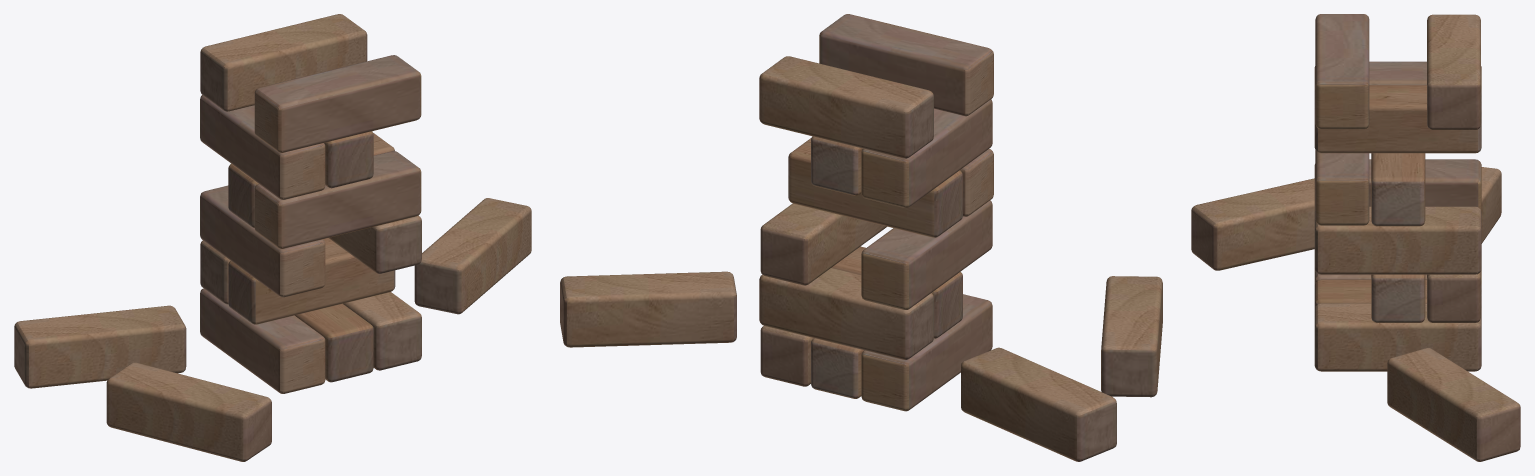
The picture shows the model from 3 angles, left to right: view 1: azimuth 30°, elevation 25°; view 2: azimuth 150°, elevation 25°; view 3: azimuth 270°, elevation 25°; orthographic projection. The views are drawn at different scales.
Visible parts, largest first — view 1: pCube23, pCube25, pCube21, pCube24, pCube17, pCube26, pCube7, pCube14, pCube20, pCube10, pCube8, pCube9 (+4 smaller); view 2: pCube26, pCube24, pCube21, pCube23, pCube12, pCube14, pCube20, pCube25, pCube7, pCube13, pCube16, pCube8 (+4 smaller); view 3: pCube26, pCube13, pCube25, pCube8, pCube19, pCube23, pCube24, pCube16, pCube17, pCube14, pCube10, pCube12 (+4 smaller).
Part boxes in pixels (box(x1,y1,x2,y2)): pCube23: box(254, 55, 421, 152); pCube25: box(106, 362, 271, 461); pCube21: box(14, 305, 186, 388); pCube24: box(200, 14, 367, 111); pCube17: box(254, 151, 421, 248); pCube26: box(414, 198, 531, 314); pCube7: box(200, 288, 325, 393); pCube14: box(200, 185, 325, 297); pCube20: box(200, 95, 325, 199); pCube10: box(228, 238, 395, 324); pCube8: box(343, 292, 421, 370); pCube9: box(295, 303, 373, 382); pCube26: box(560, 271, 736, 347); pCube24: box(759, 56, 933, 158); pCube21: box(961, 347, 1116, 461); pCube23: box(819, 14, 993, 116); pCube12: box(759, 268, 933, 359); pCube14: box(861, 200, 992, 309); pCube20: box(861, 99, 992, 207); pCube25: box(1101, 276, 1162, 397); pCube7: box(861, 294, 992, 411); pCube13: box(760, 203, 886, 285); pCube16: box(788, 138, 962, 237); pCube8: box(760, 326, 813, 386); pCube26: box(1387, 348, 1520, 461); pCube13: box(1314, 206, 1481, 274); pCube25: box(1191, 178, 1314, 270); pCube8: box(1314, 303, 1481, 371); pCube19: box(1314, 85, 1481, 153); pCube23: box(1315, 14, 1369, 129); pCube24: box(1427, 14, 1480, 129); pCube16: box(1371, 153, 1425, 226); pCube17: box(1315, 150, 1369, 225); pCube14: box(1314, 159, 1481, 211); pCube10: box(1371, 274, 1425, 322); pCube12: box(1427, 271, 1480, 322).
Bounding box in the file's own units: 11.11 × 5.94 × 6.1.
1 material, 1 textured.
